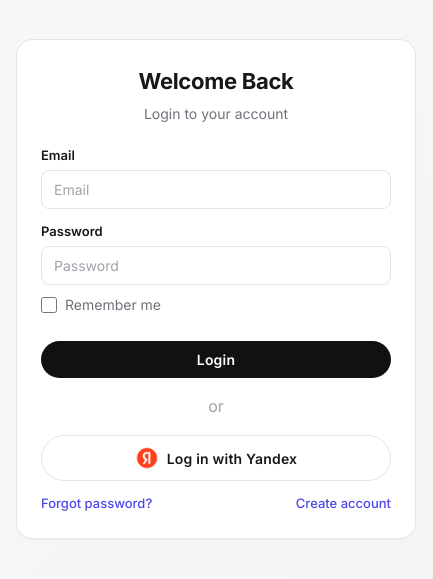
Test case: Login › should show email required error when submitting empty form
What coordinates should you click on to do the following:
click the button "Login"
I would click on:
 (216, 359)
Its box is [41,341,391,378].
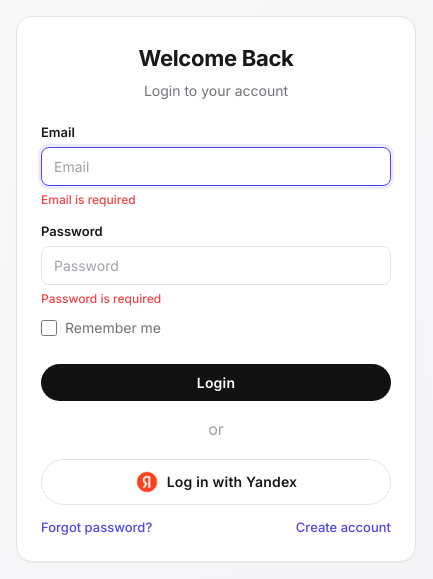
Now the text "Email is required" is shown, box [41,192,136,207]
